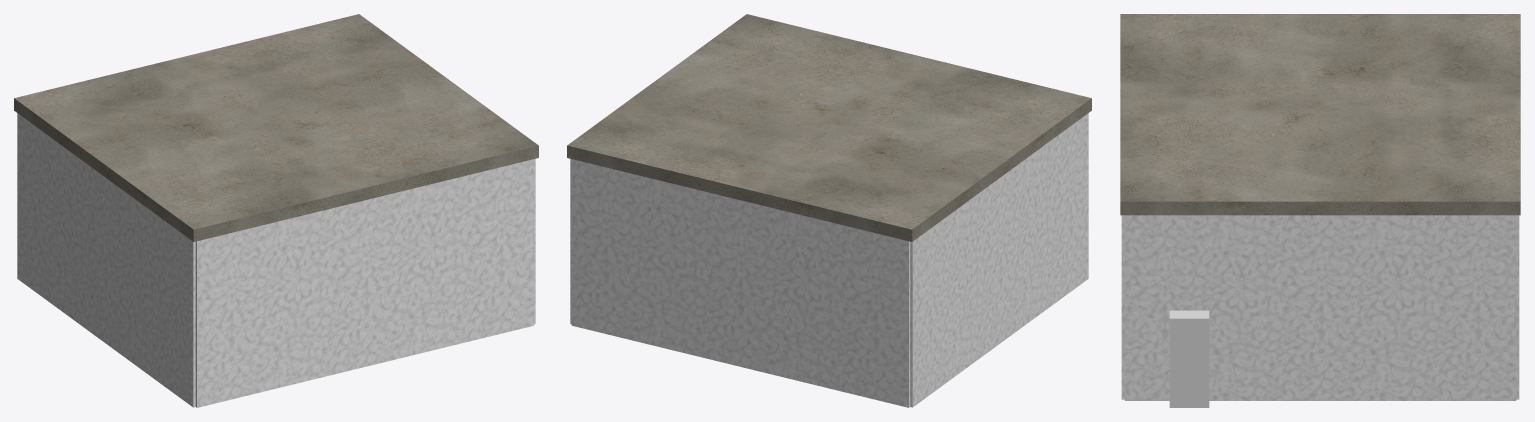
Rendered from roombed.glb.
3 views of the same model, side by side, from view 1: azimuth 30°, elevation 25°; view 2: azimuth 150°, elevation 25°; view 3: azimuth 270°, elevation 25° (orthographic). The views are drawn at different scales.
Visible parts, largest first — view 1: Roof_Flat, Wall_3, Wall_2; view 2: Roof_Flat, Wall_1, Wall_2; view 3: Roof_Flat, Wall_4, Hole_Cutter_1, Wall_1, Wall_3.
Boxes of the visible parts, left/top/right/bottom form: Roof_Flat: left=14, top=14, right=538, bottom=241; Wall_3: left=195, top=159, right=534, bottom=407; Wall_2: left=17, top=113, right=195, bottom=407; Roof_Flat: left=567, top=14, right=1091, bottom=241; Wall_1: left=571, top=159, right=910, bottom=407; Wall_2: left=910, top=113, right=1088, bottom=407; Roof_Flat: left=1120, top=14, right=1520, bottom=215; Wall_4: left=1124, top=215, right=1516, bottom=400; Hole_Cutter_1: left=1169, top=310, right=1209, bottom=407; Wall_1: left=1516, top=215, right=1519, bottom=399; Wall_3: left=1121, top=215, right=1124, bottom=399.
Bounding box in the file's own units: 10.56 × 5.06 × 9.17.
Materials: 3 (3 with a texture image).
